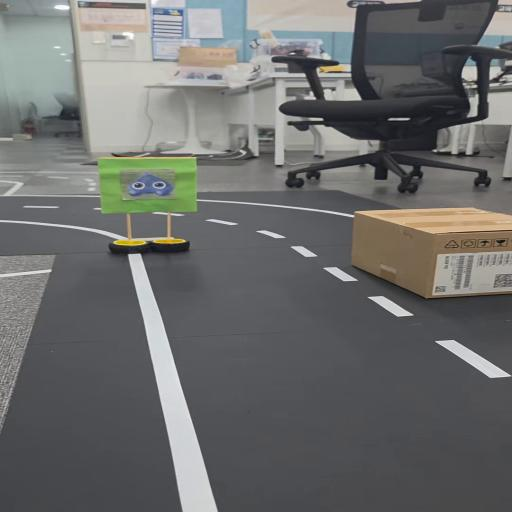Sign_B: (95, 153, 210, 262)
